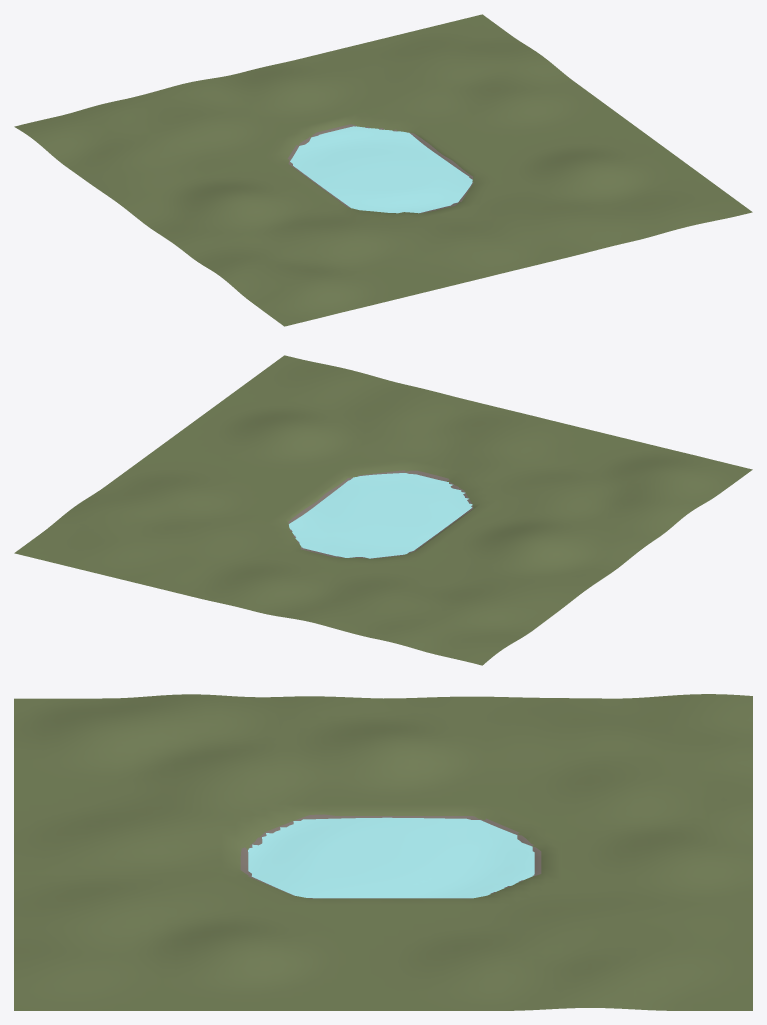
The model's file is Land of anura 1.fbx.
3 views of the same model, one above another, from view 1: azimuth 30°, elevation 25°; view 2: azimuth 150°, elevation 25°; view 3: azimuth 270°, elevation 25° (orthographic). The views are drawn at different scales.
Visible parts, largest first — view 1: pPlane2, pPlane3, pPlane1; view 2: pPlane2, pPlane3, pPlane1; view 3: pPlane2, pPlane3, pPlane1.
Boxes of the visible parts, left/top/right/bottom form: pPlane2: left=14, top=14, right=752, bottom=326; pPlane3: left=290, top=126, right=472, bottom=213; pPlane1: left=287, top=124, right=473, bottom=213; pPlane2: left=14, top=355, right=752, bottom=665; pPlane3: left=289, top=473, right=472, bottom=558; pPlane1: left=288, top=470, right=473, bottom=558; pPlane2: left=14, top=694, right=752, bottom=1010; pPlane3: left=248, top=817, right=534, bottom=898; pPlane1: left=240, top=814, right=541, bottom=898.
Bounding box in the file's own units: 131 × 5.78 × 131.
